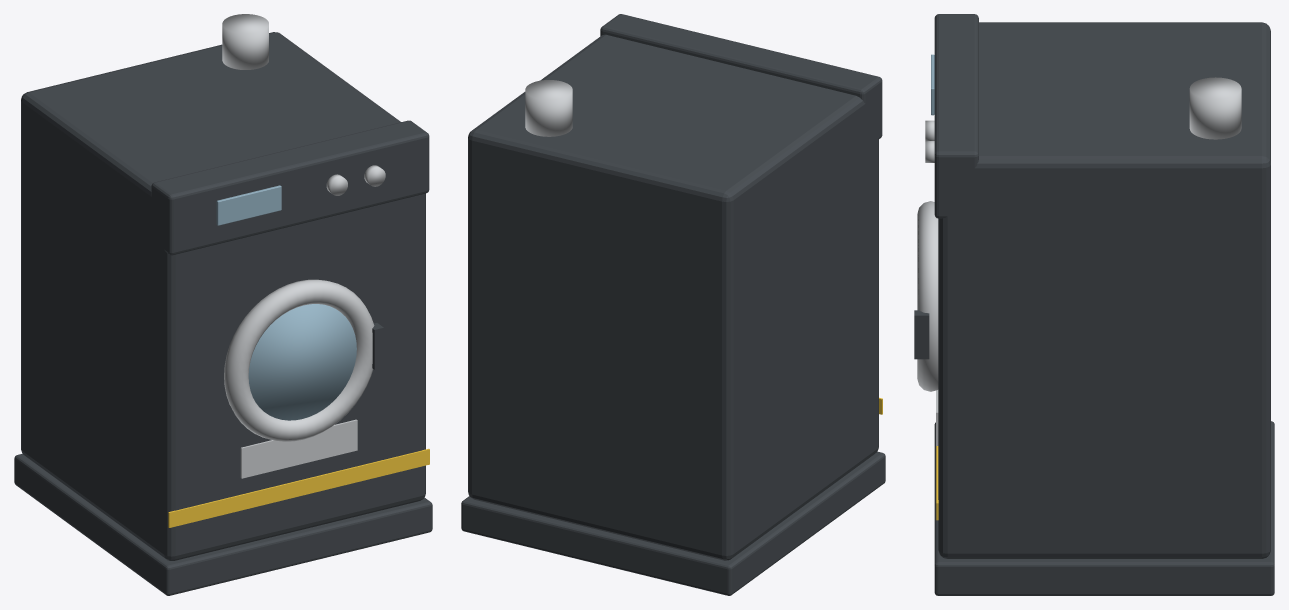
File: Env_Dryer.fbx
The picture shows the model from 3 angles, left to right: view 1: azimuth 30°, elevation 25°; view 2: azimuth 150°, elevation 25°; view 3: azimuth 270°, elevation 25°; orthographic projection. The views are drawn at different scales.
Parts seen in each view (by area): view 1: Env_Dryer_Body, Env_Dryer_Door, Env_Dryer_Panel, Env_Dryer_Plinth, Env_Dryer_Stripe, Env_Dryer_LintPanel, Env_Dryer_VentDuct, Env_Dryer_Display; view 2: Env_Dryer_Body, Env_Dryer_Plinth, Env_Dryer_Panel, Env_Dryer_VentDuct; view 3: Env_Dryer_Body, Env_Dryer_Plinth, Env_Dryer_Panel, Env_Dryer_Door, Env_Dryer_VentDuct.
Part boxes in pixels (bbox=[...]): Env_Dryer_Body: bbox=[21, 32, 425, 560]; Env_Dryer_Door: bbox=[224, 279, 383, 441]; Env_Dryer_Panel: bbox=[151, 120, 429, 255]; Env_Dryer_Plinth: bbox=[14, 453, 432, 595]; Env_Dryer_Stripe: bbox=[168, 448, 429, 527]; Env_Dryer_LintPanel: bbox=[240, 419, 357, 478]; Env_Dryer_VentDuct: bbox=[222, 14, 268, 69]; Env_Dryer_Display: bbox=[216, 185, 281, 225]; Env_Dryer_Body: bbox=[468, 34, 878, 560]; Env_Dryer_Plinth: bbox=[461, 451, 885, 595]; Env_Dryer_Panel: bbox=[600, 14, 882, 139]; Env_Dryer_VentDuct: bbox=[525, 80, 572, 136]; Env_Dryer_Body: bbox=[938, 22, 1270, 558]; Env_Dryer_Plinth: bbox=[934, 421, 1274, 595]; Env_Dryer_Panel: bbox=[934, 14, 978, 218]; Env_Dryer_Door: bbox=[914, 201, 938, 391]; Env_Dryer_VentDuct: bbox=[1189, 77, 1241, 139].
Bounding box in the file's own units: 0.92 × 1.42 × 0.9751.
